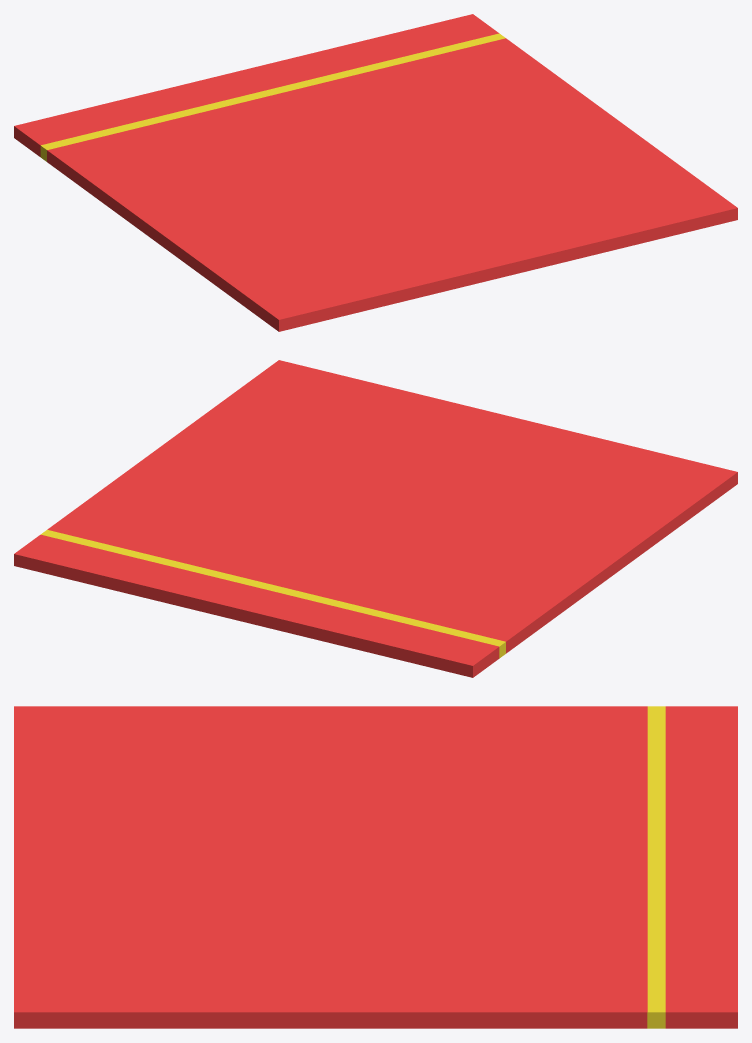
File: yasiki_capet1.obj
3 renders of one model, top to bottom at view 1: azimuth 30°, elevation 25°; view 2: azimuth 150°, elevation 25°; view 3: azimuth 270°, elevation 25°, orthographic. The views are drawn at different scales.
Size of the model in its own units: 4 by 0.1 by 4.
1 material, 1 textured.
